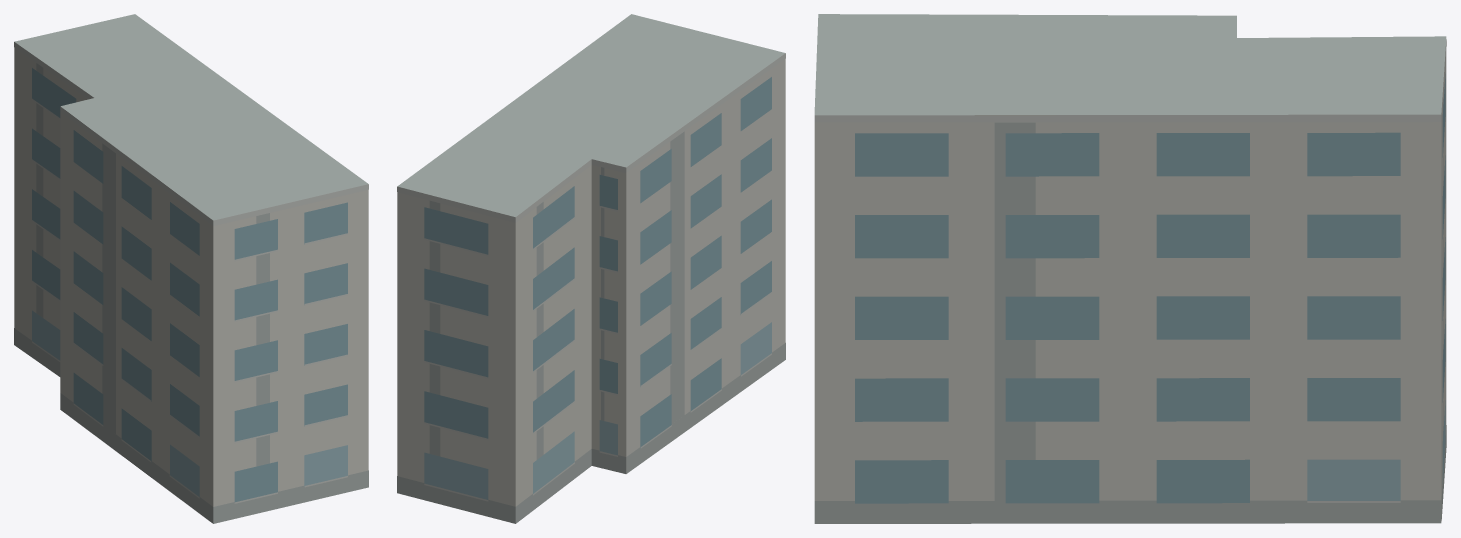
The model's file is survey-upis-32819710.glb.
The picture shows the model from 3 angles, left to right: view 1: azimuth 30°, elevation 25°; view 2: azimuth 150°, elevation 25°; view 3: azimuth 270°, elevation 25°; orthographic projection. The views are drawn at different scales.
Visible parts, largest first — view 1: survey-upis-32819710.tmp; view 2: survey-upis-32819710.tmp; view 3: survey-upis-32819710.tmp.
Boxes of the visible parts, bbox=[...] form: survey-upis-32819710.tmp: bbox=[14, 14, 368, 523]; survey-upis-32819710.tmp: bbox=[397, 14, 785, 523]; survey-upis-32819710.tmp: bbox=[814, 14, 1446, 523].
Size of the model in its own units: 7.05 by 13.25 by 18.59.
